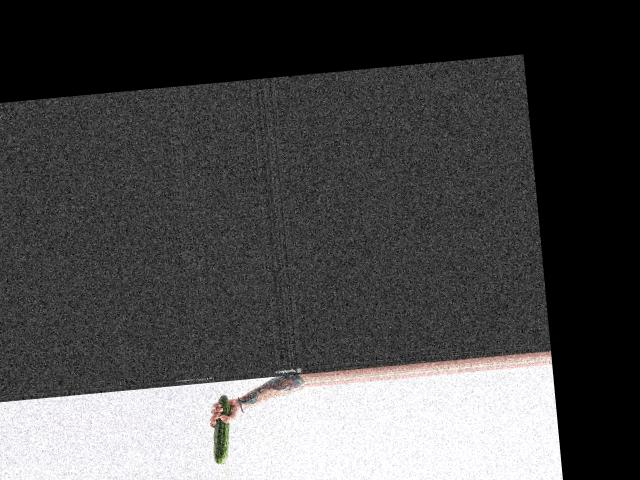cucumber: (207, 395, 234, 465)
